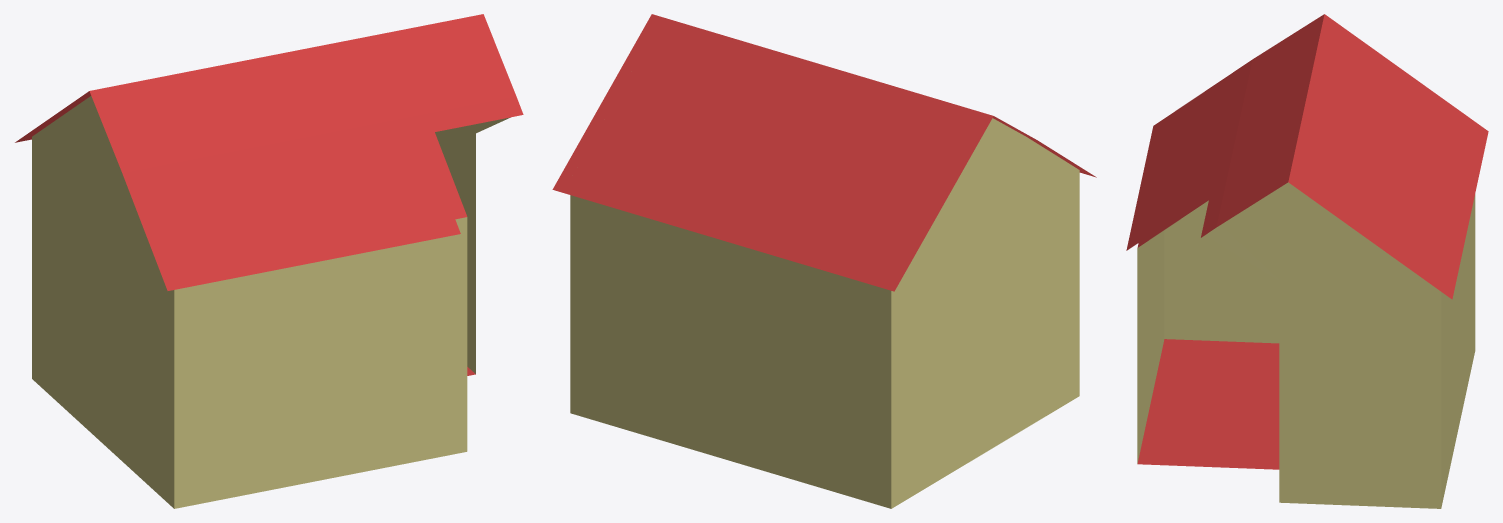
The picture shows the model from 3 angles, left to right: view 1: azimuth 30°, elevation 25°; view 2: azimuth 150°, elevation 25°; view 3: azimuth 270°, elevation 25°; orthographic projection. The views are drawn at different scales.
Size of the model in its own units: 17.42 by 14.71 by 14.61.
